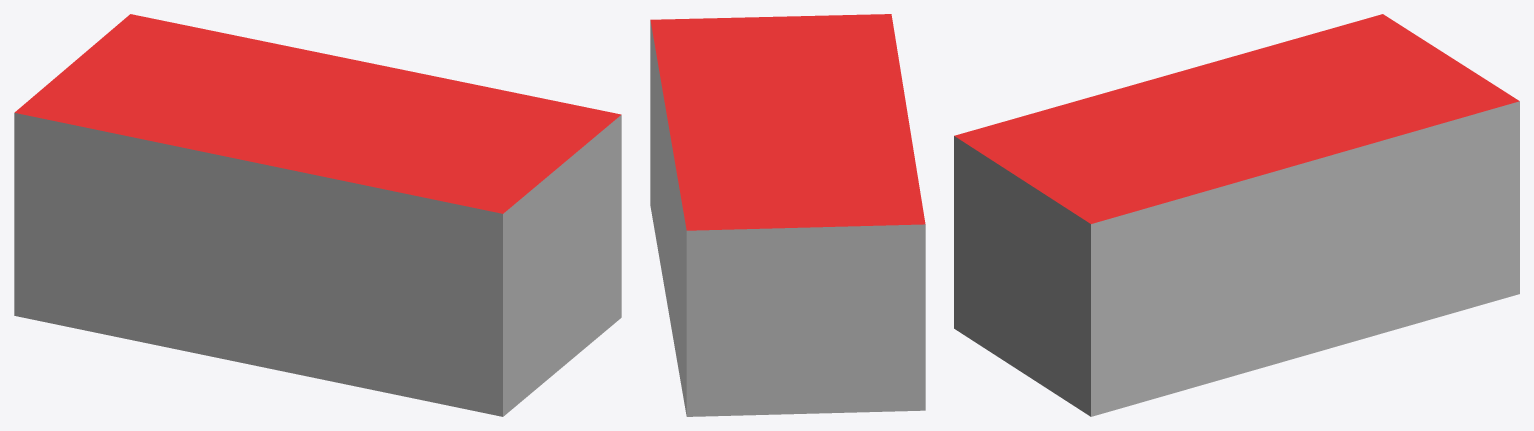
Rendered from DEBW_5221000Qtpy.dae.
3 renders of one model, left to right at view 1: azimuth 30°, elevation 25°; view 2: azimuth 150°, elevation 25°; view 3: azimuth 270°, elevation 25°, orthographic. The views are drawn at different scales.
Bounding box in the file's own units: 5.59 × 6.36 × 2.39.
